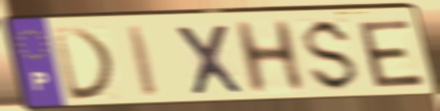D: (50, 27, 120, 104)
E: (354, 17, 428, 90)
H: (230, 18, 310, 97)
I: (124, 24, 162, 100)
S: (302, 16, 363, 95)
X: (172, 22, 249, 98)
